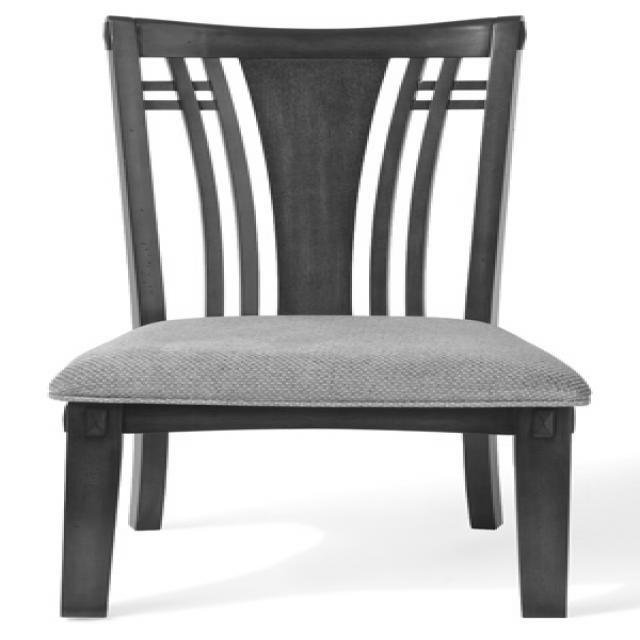chair: (50, 13, 592, 620)
